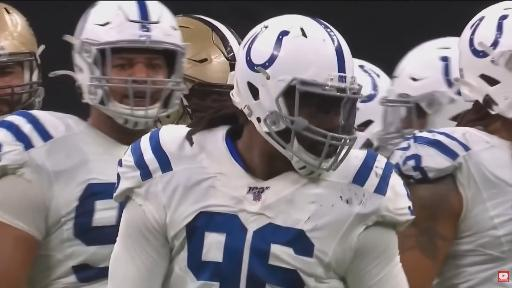Helmet: (231, 15, 361, 175), (53, 1, 185, 129), (379, 37, 471, 148), (158, 15, 240, 125), (457, 1, 511, 118), (0, 4, 43, 117), (354, 59, 390, 149)
Jersey: (115, 126, 413, 287), (0, 111, 127, 287), (390, 127, 511, 287), (0, 111, 83, 177)
Player: (109, 15, 412, 287), (0, 1, 184, 287), (390, 2, 511, 287), (379, 37, 471, 156), (157, 15, 240, 126), (0, 4, 43, 119), (354, 59, 390, 151)
